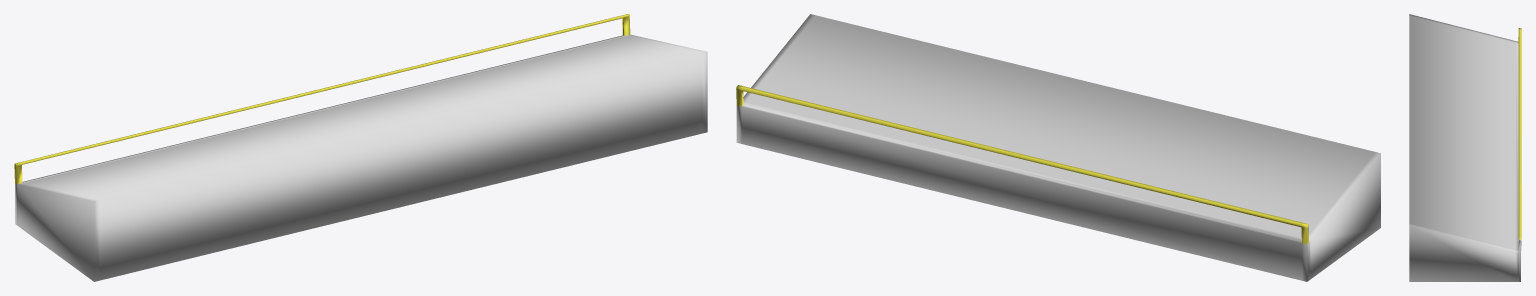
Rendered from WallShelf.fbx.
3 views of the same model, side by side, from view 1: azimuth 30°, elevation 25°; view 2: azimuth 150°, elevation 25°; view 3: azimuth 270°, elevation 25° (orthographic). The views are drawn at different scales.
Visible parts, largest first — view 1: WallShelf.012; view 2: WallShelf.012; view 3: WallShelf.012.
Boxes of the visible parts, bbox=[...] form: WallShelf.012: bbox=[14, 14, 707, 281]; WallShelf.012: bbox=[736, 14, 1380, 281]; WallShelf.012: bbox=[1409, 14, 1521, 281].
Bounding box in the file's own units: 321 × 40.26 × 72.34.
